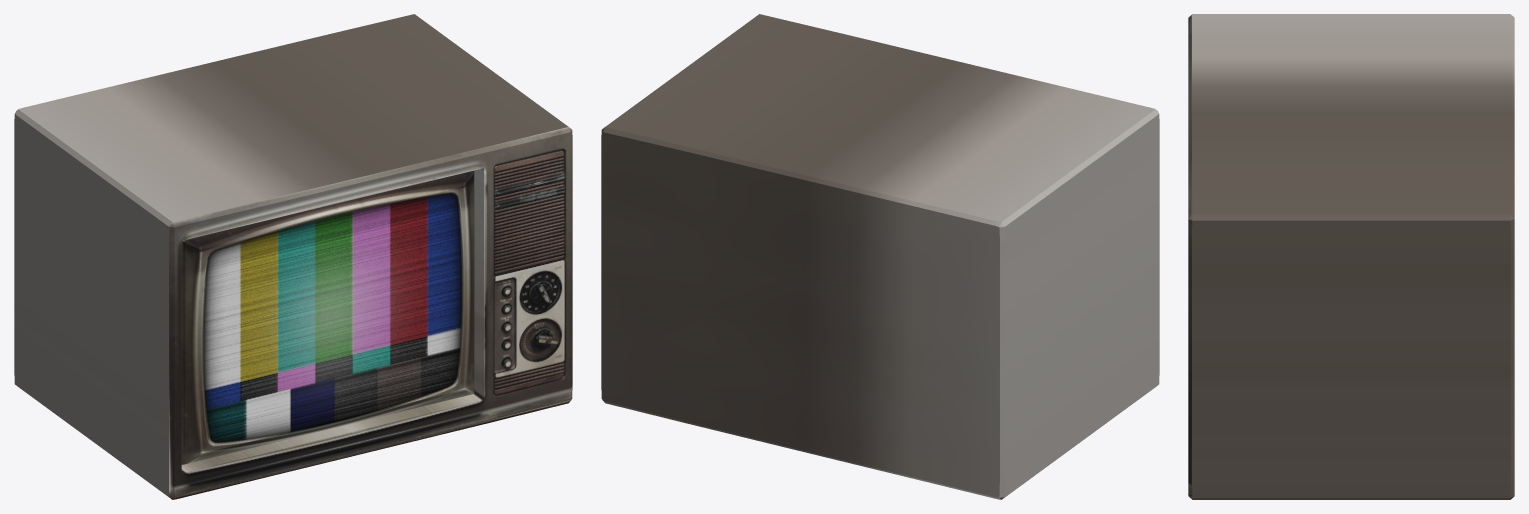
File: televisie.fbx
3 views of the same model, side by side, from view 1: azimuth 30°, elevation 25°; view 2: azimuth 150°, elevation 25°; view 3: azimuth 270°, elevation 25° (orthographic). The views are drawn at different scales.
Parts seen in each view (by area): view 1: pCube1; view 2: pCube1; view 3: pCube1.
Boxes of the visible parts, bbox=[...] form: pCube1: bbox=[14, 14, 572, 499]; pCube1: bbox=[601, 14, 1159, 499]; pCube1: bbox=[1188, 14, 1514, 499].
Size of the model in its own units: 20.12 by 13.24 by 13.68.
